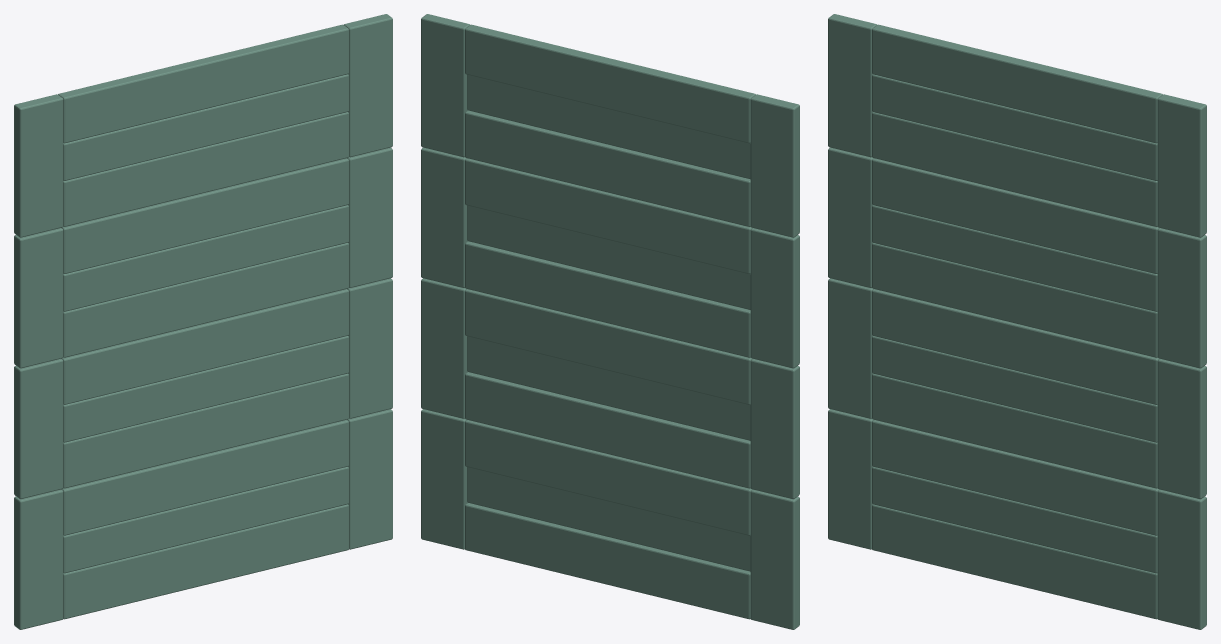
File: DRAWERS_4_600x800.glb
The picture shows the model from 3 angles, left to right: view 1: azimuth 30°, elevation 25°; view 2: azimuth 150°, elevation 25°; view 3: azimuth 330°, elevation 25°; orthographic projection.
Parts seen in each view (by area): view 1: front_panel_01_top, front_panel_04_top, front_panel_03_top, front_panel_02_top, front_panel_03_bottom, front_panel_04_bottom, front_panel_02_bottom, front_panel_01_bottom, front_panel_04_center, front_panel_01_center, front_panel_03_center, front_panel_02_center (+8 smaller); view 2: front_panel_01_top, front_panel_03_bottom, front_panel_04_bottom, front_panel_01_bottom, front_panel_02_bottom, front_panel_04_top, front_panel_03_top, front_panel_02_top, front_panel_01_center, front_panel_02_center, front_panel_03_center, front_panel_04_center (+8 smaller); view 3: front_panel_01_top, front_panel_04_top, front_panel_03_top, front_panel_02_top, front_panel_03_bottom, front_panel_04_bottom, front_panel_02_bottom, front_panel_01_bottom, front_panel_04_center, front_panel_01_center, front_panel_03_center, front_panel_02_center (+8 smaller).
Boxes of the visible parts, left/top/right/bottom form: front_panel_01_top: left=58, top=24, right=348, bottom=143; front_panel_04_top: left=61, top=419, right=348, bottom=535; front_panel_03_top: left=61, top=289, right=348, bottom=404; front_panel_02_top: left=61, top=158, right=348, bottom=273; front_panel_03_bottom: left=63, top=373, right=348, bottom=488; front_panel_04_bottom: left=63, top=504, right=348, bottom=619; front_panel_02_bottom: left=63, top=243, right=348, bottom=357; front_panel_01_bottom: left=63, top=112, right=348, bottom=226; front_panel_04_center: left=63, top=466, right=348, bottom=573; front_panel_01_center: left=63, top=74, right=348, bottom=180; front_panel_03_center: left=63, top=336, right=348, bottom=442; front_panel_02_center: left=63, top=205, right=348, bottom=311; front_panel_01_top: left=465, top=24, right=755, bottom=143; front_panel_03_bottom: left=465, top=372, right=750, bottom=488; front_panel_04_bottom: left=465, top=503, right=750, bottom=619; front_panel_01_bottom: left=465, top=110, right=750, bottom=226; front_panel_02_bottom: left=465, top=241, right=750, bottom=357; front_panel_04_top: left=465, top=419, right=752, bottom=535; front_panel_03_top: left=465, top=289, right=752, bottom=404; front_panel_02_top: left=465, top=158, right=752, bottom=273; front_panel_01_center: left=467, top=74, right=750, bottom=179; front_panel_02_center: left=467, top=205, right=750, bottom=309; front_panel_03_center: left=467, top=336, right=750, bottom=440; front_panel_04_center: left=467, top=467, right=750, bottom=571; front_panel_01_top: left=872, top=24, right=1162, bottom=143; front_panel_04_top: left=872, top=419, right=1159, bottom=535; front_panel_03_top: left=872, top=289, right=1159, bottom=404; front_panel_02_top: left=872, top=158, right=1159, bottom=273; front_panel_03_bottom: left=872, top=373, right=1157, bottom=488; front_panel_04_bottom: left=872, top=504, right=1157, bottom=619; front_panel_02_bottom: left=872, top=243, right=1157, bottom=357; front_panel_01_bottom: left=872, top=112, right=1157, bottom=226; front_panel_04_center: left=872, top=466, right=1157, bottom=573; front_panel_01_center: left=872, top=74, right=1157, bottom=180; front_panel_03_center: left=872, top=336, right=1157, bottom=442; front_panel_02_center: left=872, top=205, right=1157, bottom=311.
Bounding box in the file's own units: 0.596 × 0.796 × 0.018.
